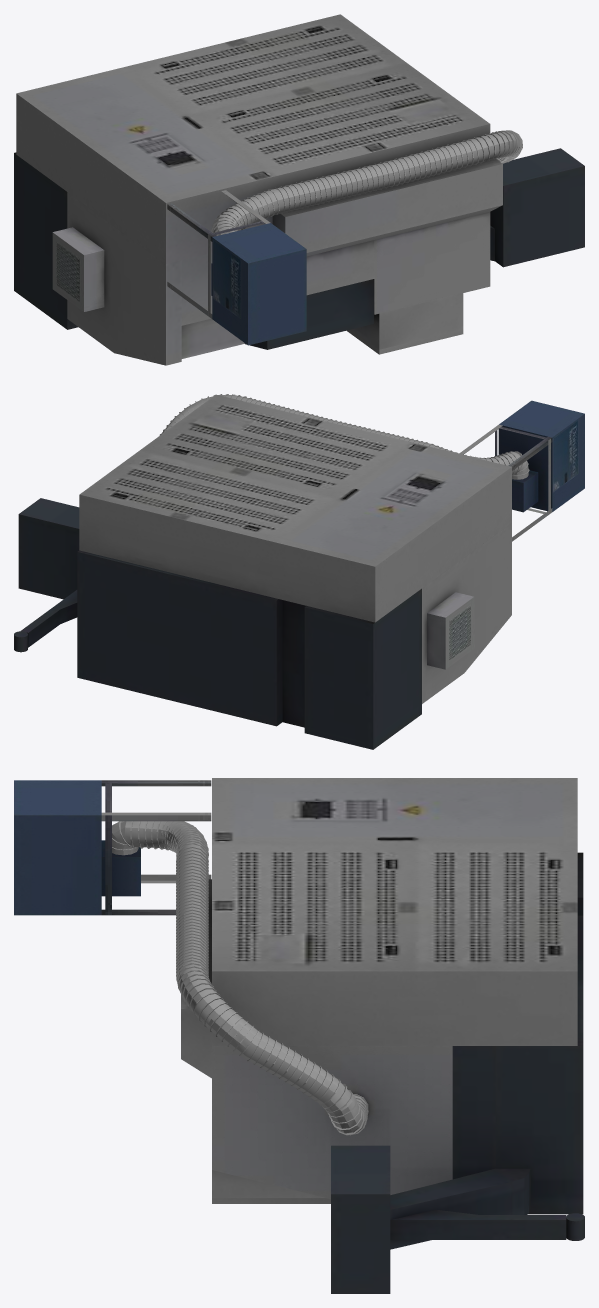
3 views of the same model, one above another, from view 1: azimuth 30°, elevation 25°; view 2: azimuth 150°, elevation 25°; view 3: azimuth 270°, elevation 25° (orthographic). The views are drawn at different scales.
Visible parts, largest first — view 1: TC52bian, TC52spal, tc5smoto, TC52scar, TC52, TC52tubo, TC52base, tc52_aer, TC52port, TC52corp, TC52_g_m, TC52pan; view 2: TC52bian, TC52base, TC52scar, TC52spal, tc5smoto, tc52_aer, TC52tubo, TC52_g_m; view 3: TC52bian, TC52, TC52base, TC52scar, TC52tubo, tc5smoto, TC52_g_m, TC52pan.
Boxes of the visible parts, left/top/right/bottom form: TC52bian: left=16, top=14, right=502, bottom=349; TC52spal: left=67, top=192, right=181, bottom=365; tc5smoto: left=211, top=223, right=306, bottom=345; TC52scar: left=490, top=148, right=584, bottom=267; TC52: left=374, top=212, right=490, bottom=314; TC52tubo: left=211, top=130, right=522, bottom=235; TC52base: left=14, top=152, right=78, bottom=329; tc52_aer: left=52, top=227, right=104, bottom=311; TC52port: left=245, top=279, right=373, bottom=349; TC52corp: left=181, top=318, right=244, bottom=358; TC52_g_m: left=167, top=190, right=270, bottom=318; TC52pan: left=347, top=329, right=463, bottom=354; TC52bian: left=79, top=394, right=511, bottom=622; TC52base: left=77, top=550, right=421, bottom=749; TC52scar: left=14, top=498, right=79, bottom=652; TC52spal: left=422, top=523, right=511, bottom=703; tc5smoto: left=498, top=400, right=584, bottom=512; tc52_aer: left=427, top=592, right=474, bottom=669; TC52tubo: left=159, top=394, right=529, bottom=479; TC52_g_m: left=459, top=424, right=552, bottom=541; TC52bian: left=181, top=778, right=577, bottom=1197; TC52: left=212, top=1046, right=452, bottom=1198; TC52base: left=452, top=852, right=583, bottom=1214; TC52scar: left=331, top=1145, right=584, bottom=1293; TC52tubo: left=112, top=821, right=368, bottom=1135; tc5smoto: left=14, top=780, right=140, bottom=915; TC52_g_m: left=101, top=780, right=211, bottom=915; TC52pan: left=212, top=1198, right=330, bottom=1203.
Size of the model in its own units: 314 by 127 by 260.
Materials: 14 (13 with a texture image).
